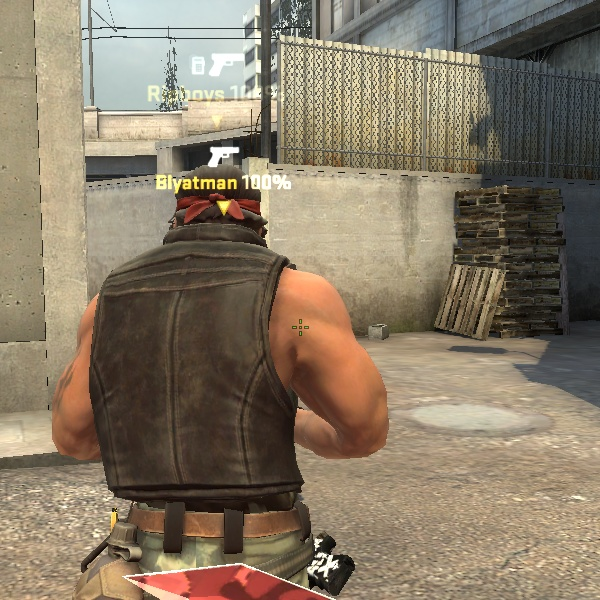t_body: (69, 143, 406, 595)
t_head: (162, 148, 273, 265)
